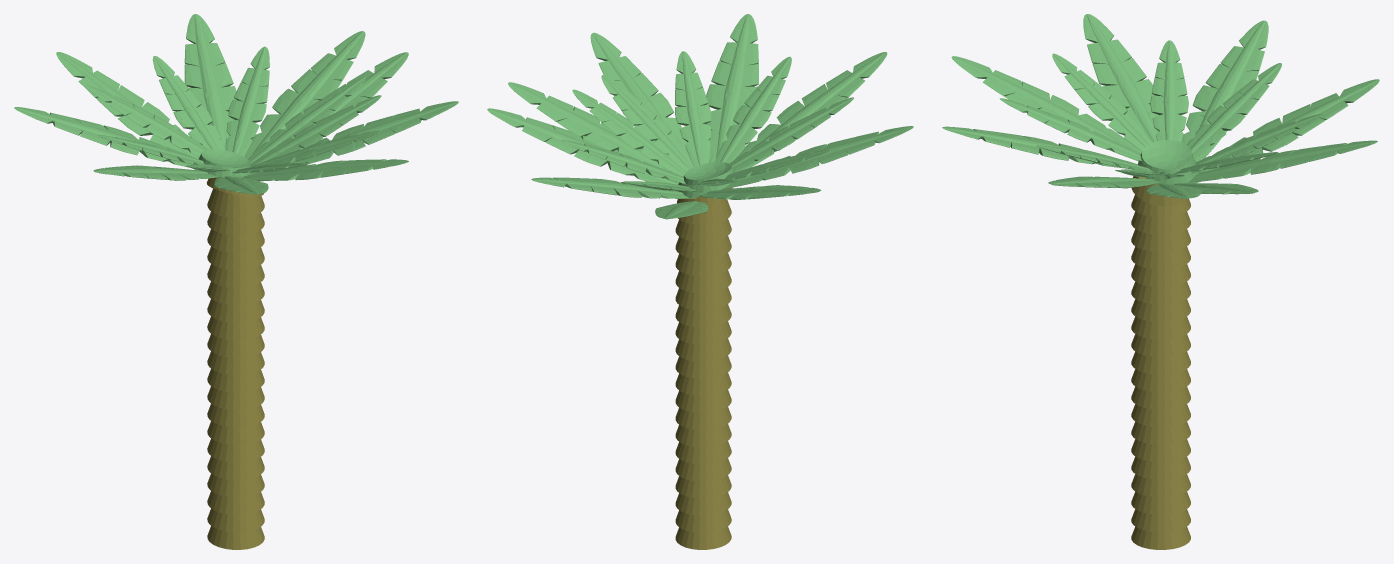
The model's file is Magnificent Albar-Bigery (2).glb.
3 views of the same model, side by side, from view 1: azimuth 30°, elevation 25°; view 2: azimuth 150°, elevation 25°; view 3: azimuth 270°, elevation 25° (orthographic). The views are drawn at different scales.
Visible parts, largest first — view 1: Mesh_Mesh_head_geo.001_lambert2SG.001; view 2: Mesh_Mesh_head_geo.001_lambert2SG.001; view 3: Mesh_Mesh_head_geo.001_lambert2SG.001.
Part boxes in pixels (x1,y1,x2,y2): Mesh_Mesh_head_geo.001_lambert2SG.001: (14,14,458,549); Mesh_Mesh_head_geo.001_lambert2SG.001: (487,14,913,549); Mesh_Mesh_head_geo.001_lambert2SG.001: (942,14,1379,549).
Size of the model in its own units: 0.077 by 0.089 by 0.08.
